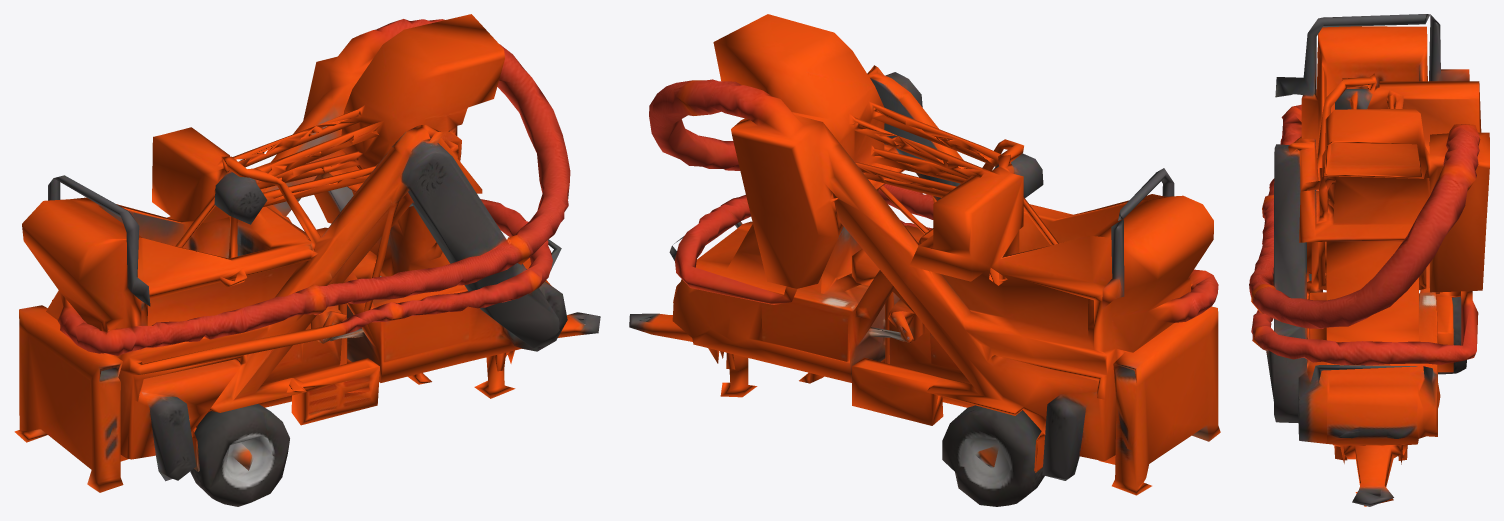
The model's file is patos-ham.glb.
3 renders of one model, left to right at view 1: azimuth 30°, elevation 25°; view 2: azimuth 150°, elevation 25°; view 3: azimuth 270°, elevation 25°, orthographic. The views are drawn at different scales.
Visible parts, largest first — view 1: tripo_node_b495635b-7634-4e86-94fd-2c6a8d4087c0; view 2: tripo_node_b495635b-7634-4e86-94fd-2c6a8d4087c0; view 3: tripo_node_b495635b-7634-4e86-94fd-2c6a8d4087c0.
Boxes of the visible parts, box(x1,y1,x2,y2) form: tripo_node_b495635b-7634-4e86-94fd-2c6a8d4087c0: box(14, 14, 600, 506); tripo_node_b495635b-7634-4e86-94fd-2c6a8d4087c0: box(629, 14, 1220, 506); tripo_node_b495635b-7634-4e86-94fd-2c6a8d4087c0: box(1249, 14, 1489, 506).
Bounding box in the file's own units: 0.9833 × 0.6331 × 0.3778.
1 material, 1 textured.
